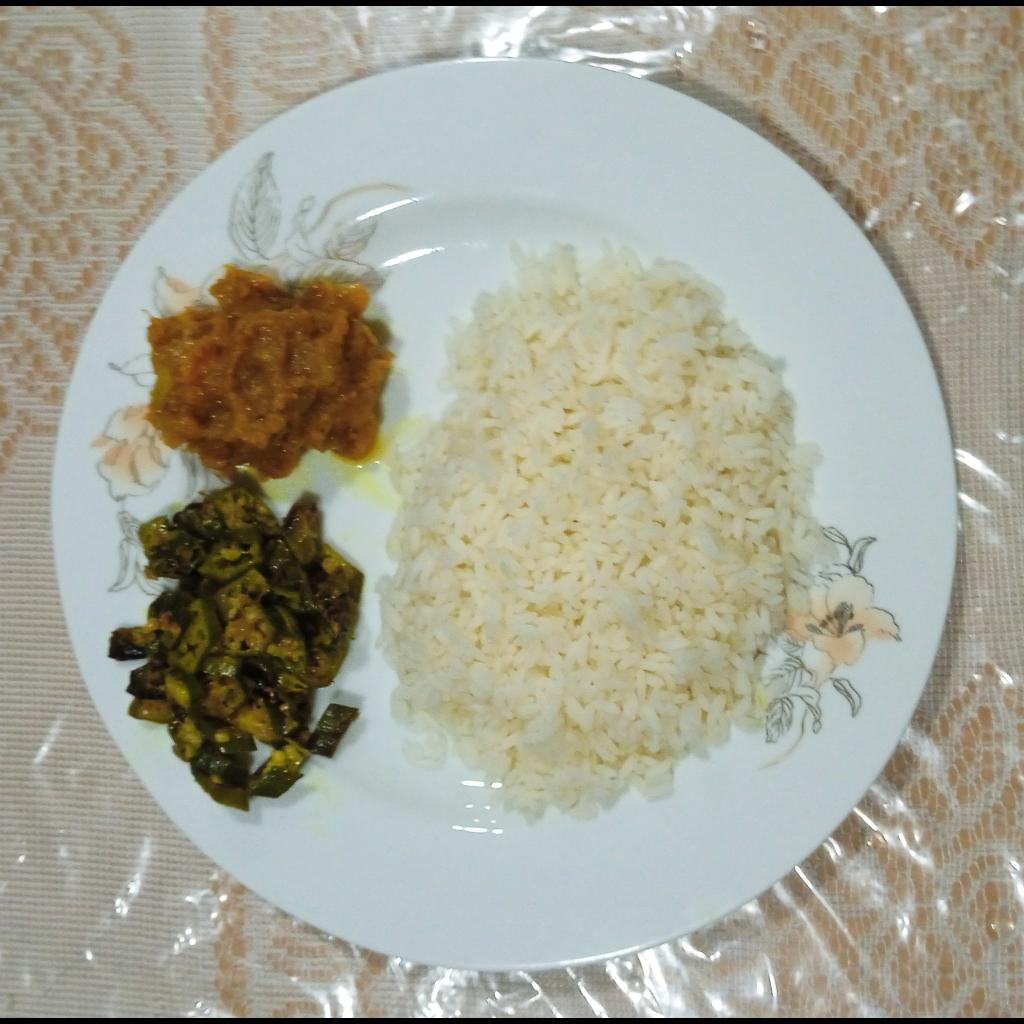okra: (102, 488, 366, 815)
rice: (372, 227, 830, 822)
vorta: (145, 265, 395, 485)
